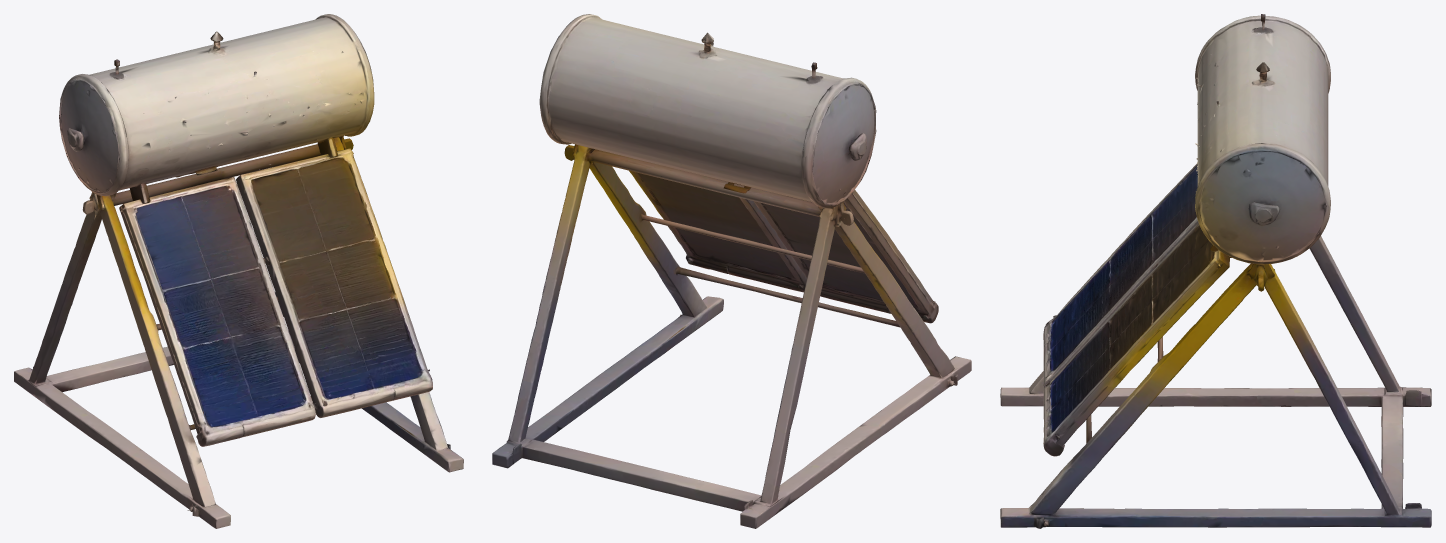
File: solar-heater.glb
3 renders of one model, left to right at view 1: azimuth 30°, elevation 25°; view 2: azimuth 150°, elevation 25°; view 3: azimuth 270°, elevation 25°, orthographic. The views are drawn at different scales.
Parts seen in each view (by area): view 1: tripo_node_4c86af29-5b96-4b8b-ab89-1e11ff96010c; view 2: tripo_node_4c86af29-5b96-4b8b-ab89-1e11ff96010c; view 3: tripo_node_4c86af29-5b96-4b8b-ab89-1e11ff96010c.
Part boxes in pixels (x1,y1,x2,y2): tripo_node_4c86af29-5b96-4b8b-ab89-1e11ff96010c: (14,14,463,528); tripo_node_4c86af29-5b96-4b8b-ab89-1e11ff96010c: (492,14,971,528); tripo_node_4c86af29-5b96-4b8b-ab89-1e11ff96010c: (1000,14,1431,528).
Size of the model in its own units: 0.7903 by 0.978 by 0.9513.
1 material, 1 textured.
